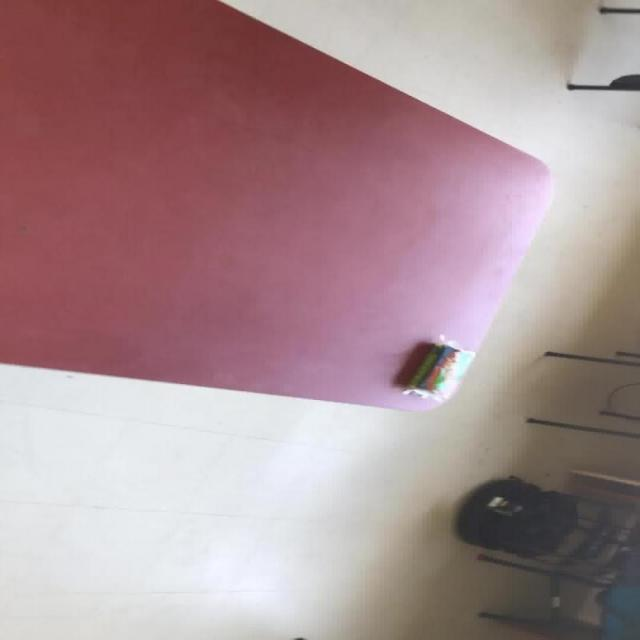Sponge: (404, 338, 474, 399)
